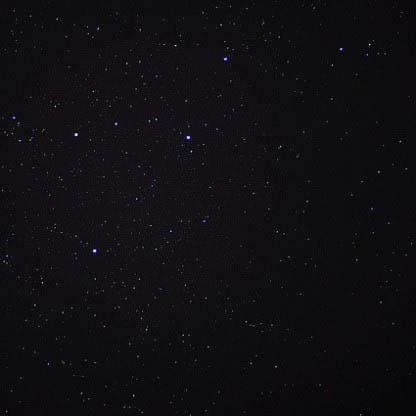Cassiopeia: (68, 116, 122, 148), (324, 34, 354, 64), (175, 121, 206, 149), (82, 237, 108, 264), (210, 49, 241, 71)
